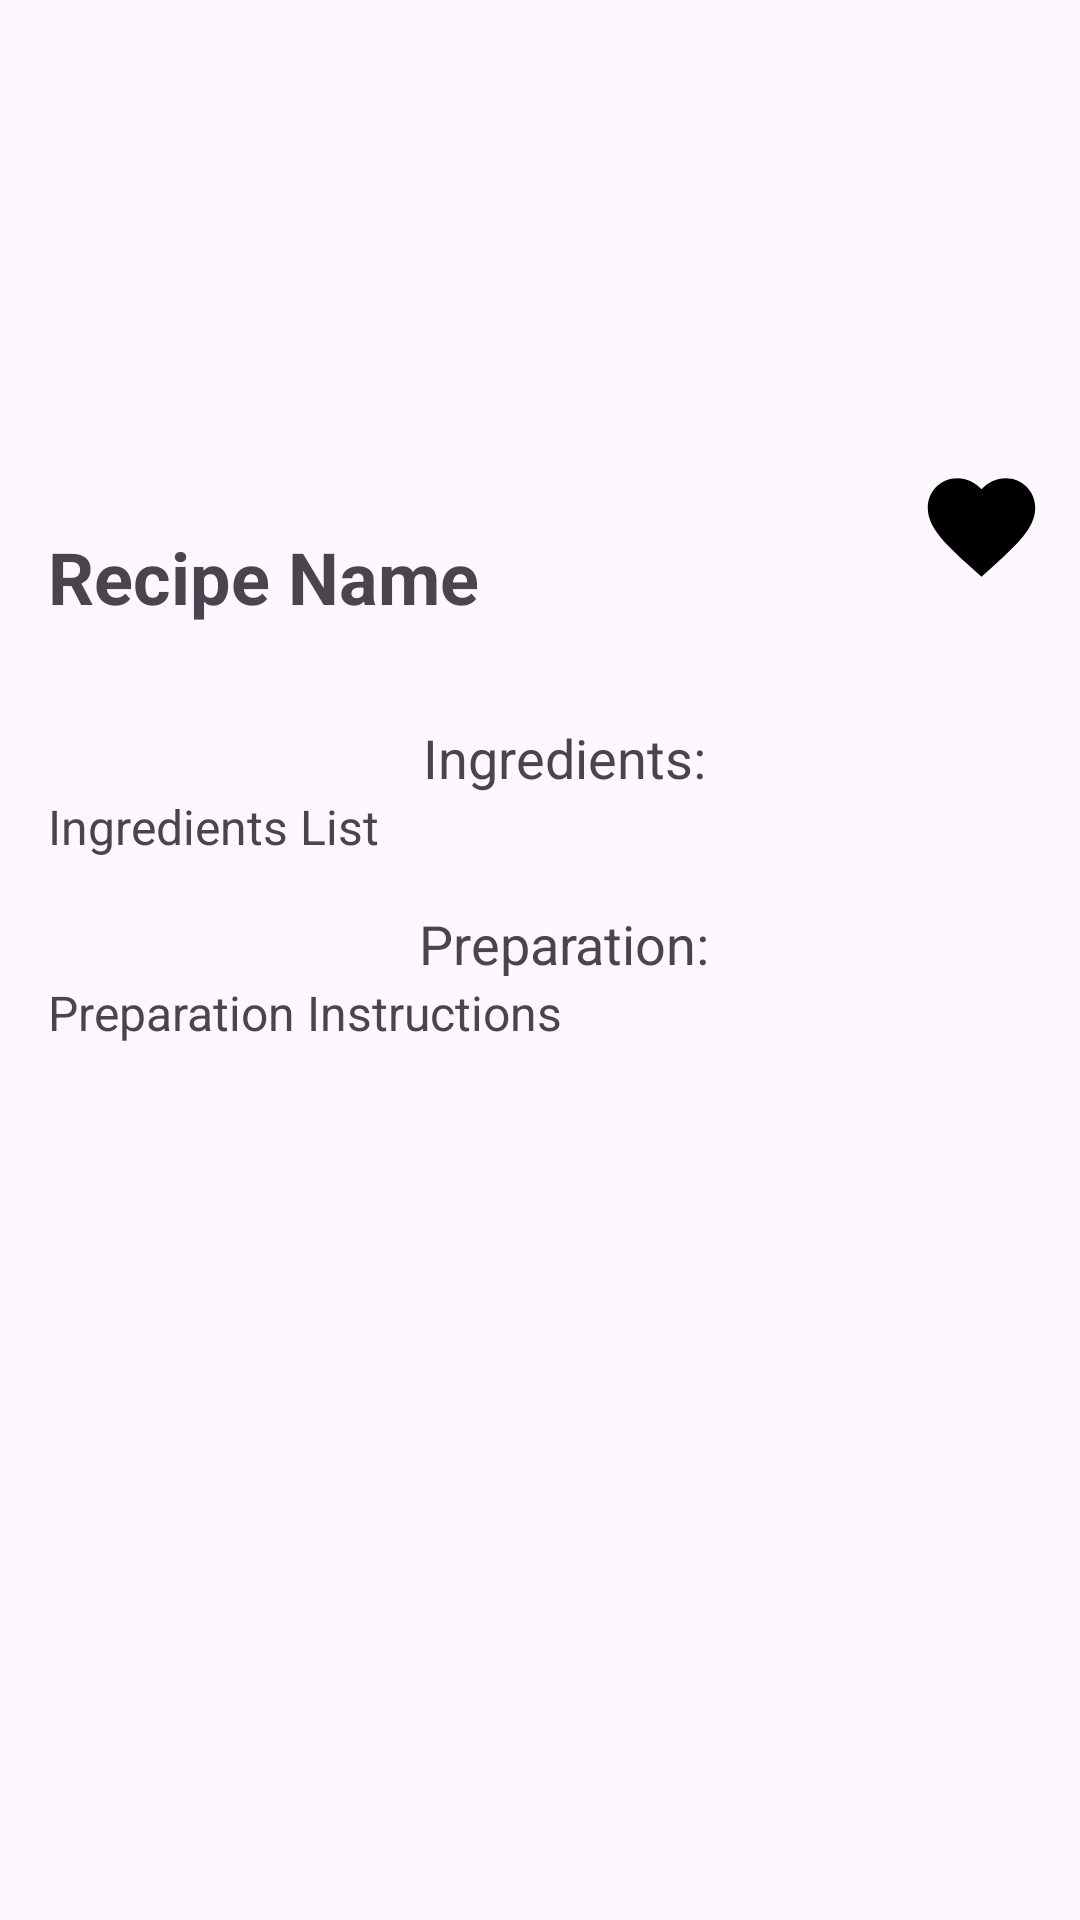

Where to tap for icons on this 1080x1920 app screen, as (x=x, y=y):
favourite: (x=981, y=527)
